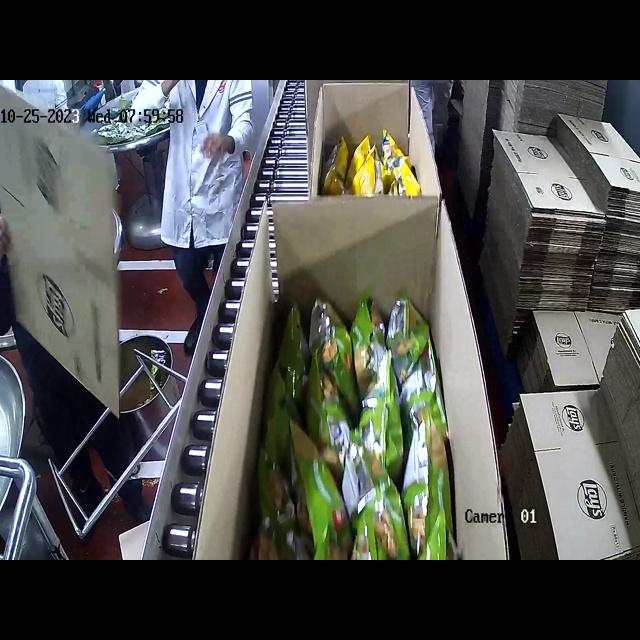salted: (327, 116, 424, 197)
yogurt: (279, 292, 431, 560)
